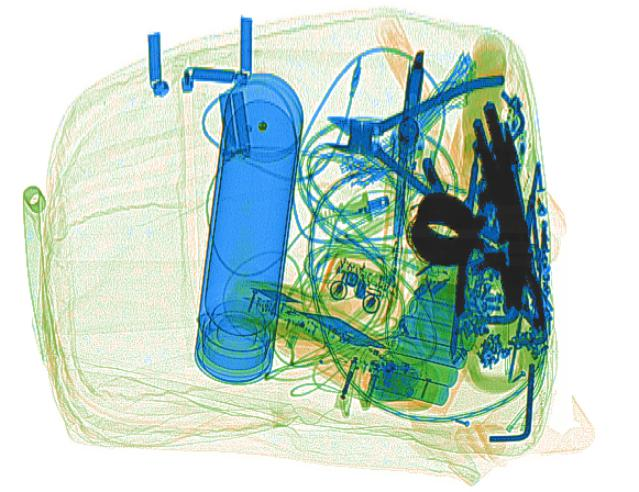battery: (368, 275, 497, 409)
